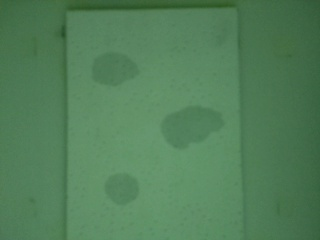Water_detected: (167, 104, 218, 152), (99, 51, 139, 87), (110, 173, 142, 200)
